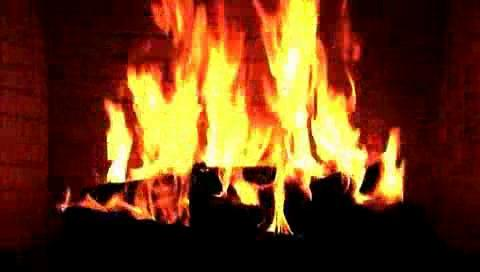fire: (91, 0, 416, 235)
